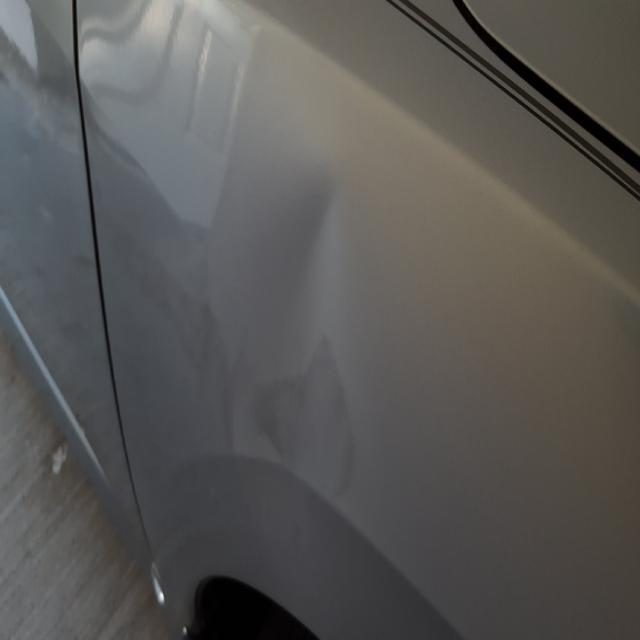dents: (186, 322, 309, 524), (280, 130, 362, 296)
